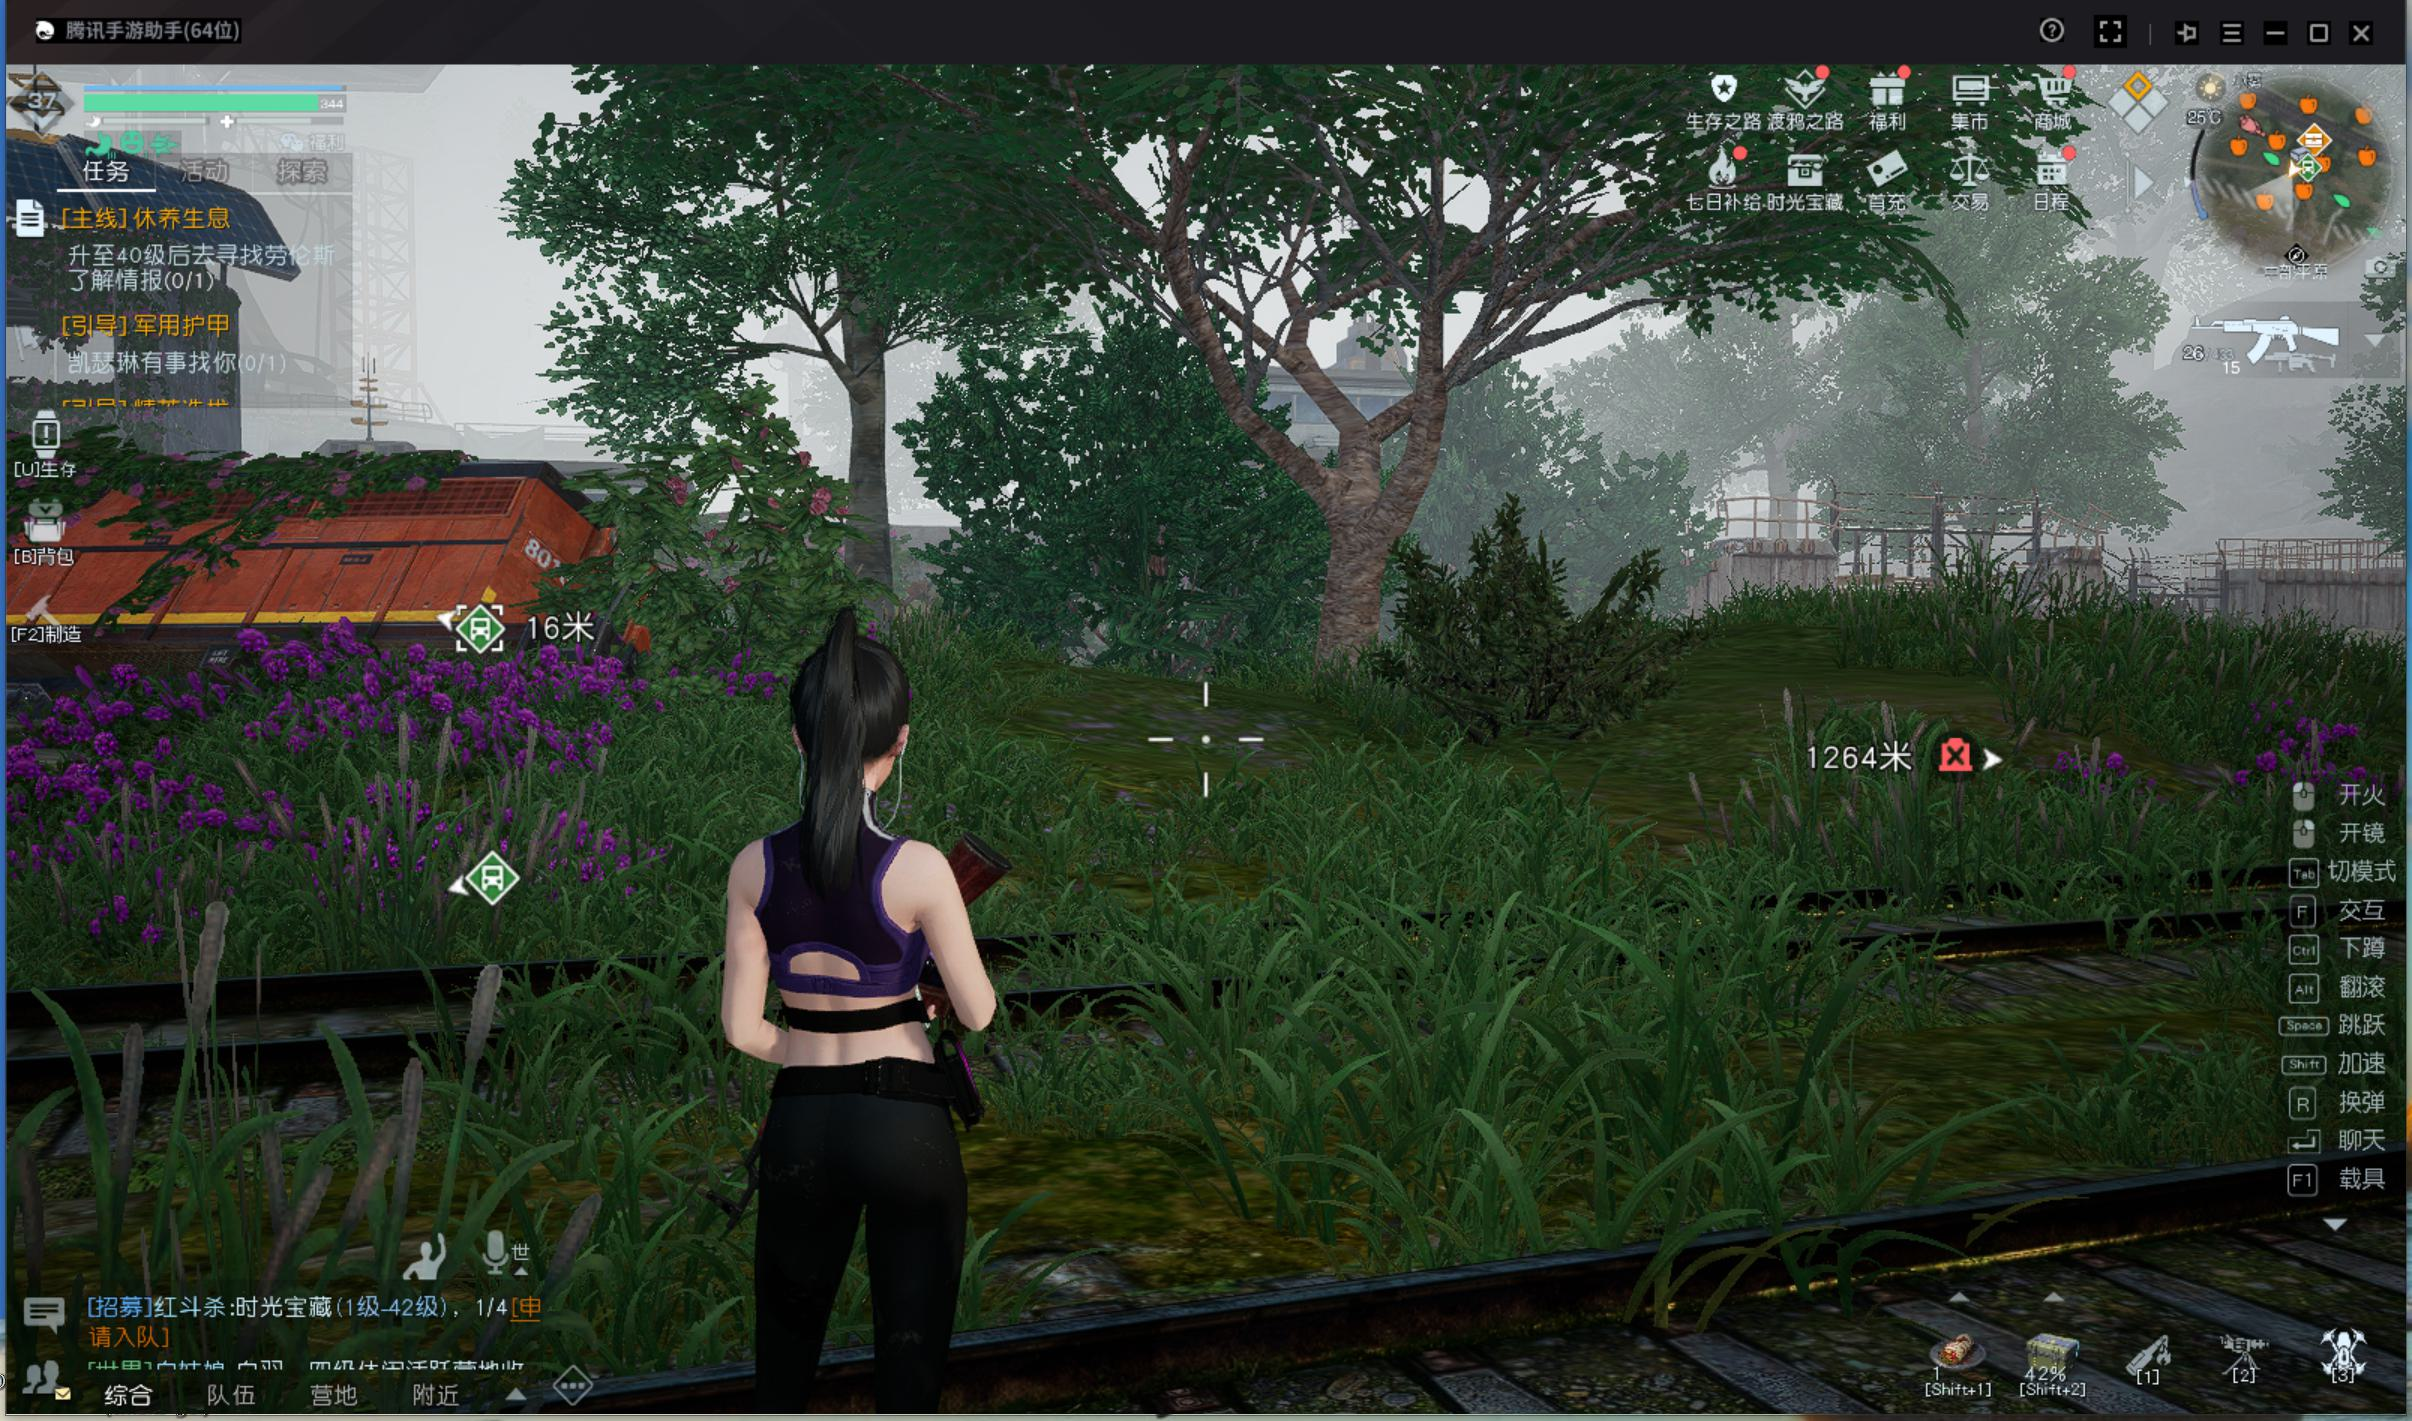tree: (822, 348, 912, 648), (1311, 406, 1401, 699)
